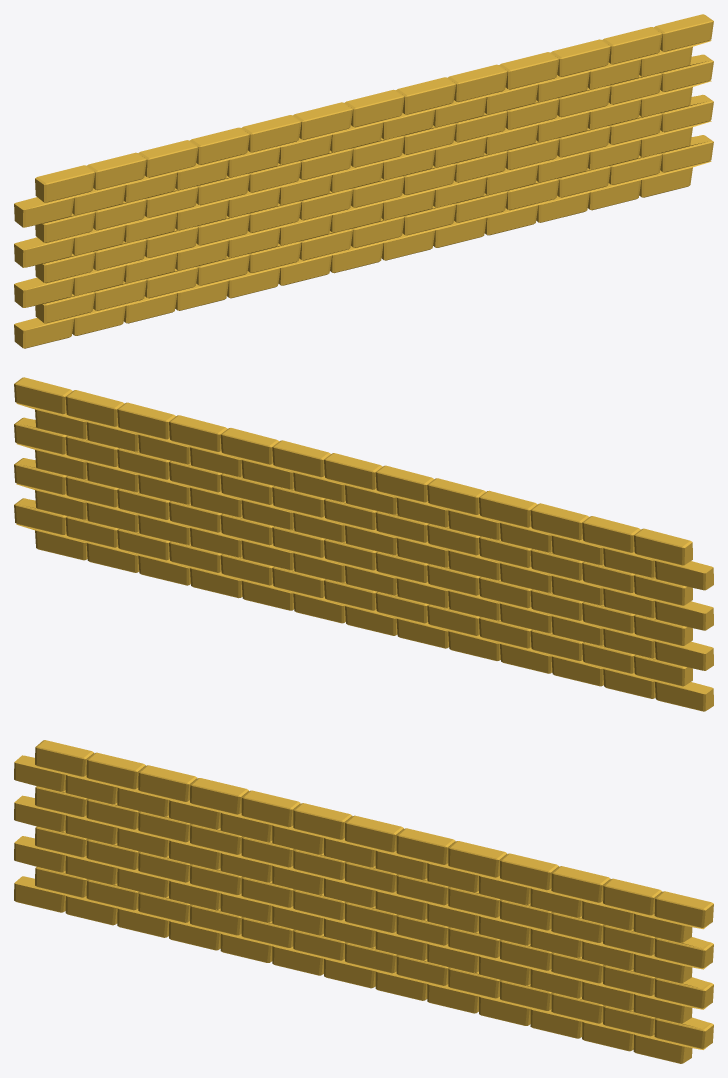
Rendered from Muro2.fbx.
3 views of the same model, one above another, from view 1: azimuth 30°, elevation 25°; view 2: azimuth 150°, elevation 25°; view 3: azimuth 330°, elevation 25° (orthographic).
Parts seen in each view (by area): view 1: Muro2; view 2: Muro2; view 3: Muro2.
Part boxes in pixels (<box>): Muro2: <box>14,14,713,348</box>; Muro2: <box>14,377,713,711</box>; Muro2: <box>14,740,713,1063</box>.
Bounding box in the file's own units: 1963 × 437 × 47.43.
